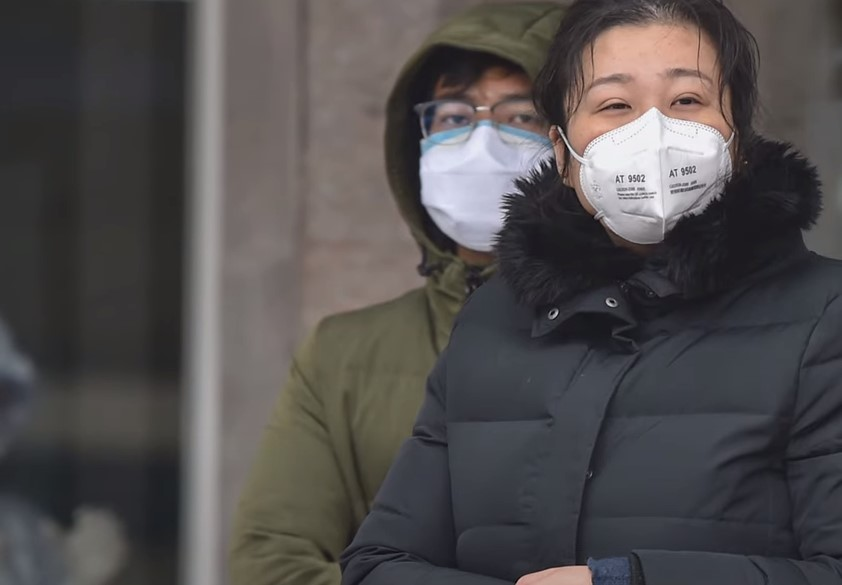face_with_mask: (551, 8, 754, 254), (382, 43, 548, 257)
